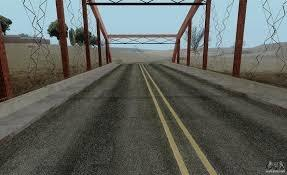road: (0, 64, 179, 173), (145, 65, 286, 174)
